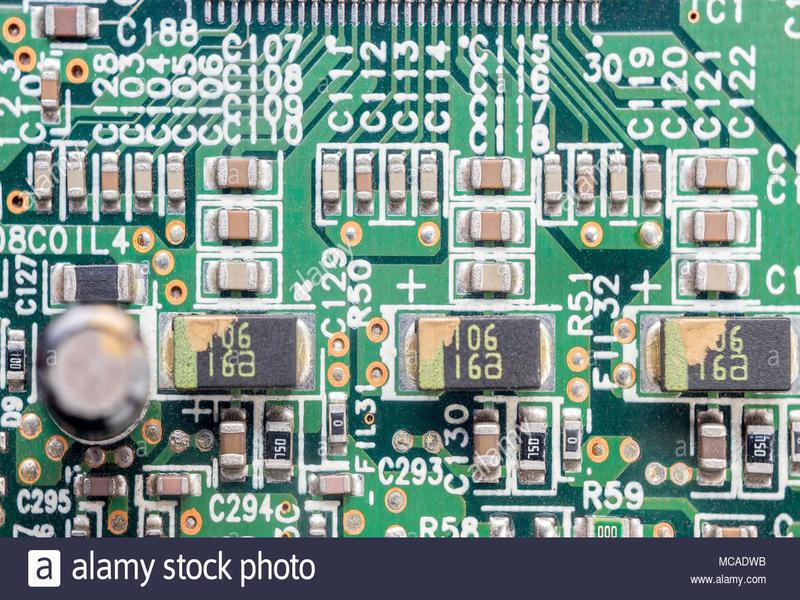SMD capacitor: (680, 153, 758, 195), (208, 156, 284, 196), (680, 205, 757, 244), (679, 257, 751, 298), (457, 208, 529, 246), (205, 259, 274, 297), (460, 155, 527, 194), (459, 261, 524, 298), (206, 210, 271, 240), (215, 417, 244, 477), (44, 3, 93, 37), (539, 154, 569, 206), (384, 153, 411, 209), (319, 153, 344, 212), (29, 150, 55, 206), (65, 152, 90, 209), (698, 421, 726, 471), (311, 468, 360, 496), (608, 155, 630, 216), (644, 152, 665, 213), (132, 155, 156, 207), (98, 155, 121, 209), (164, 154, 187, 206), (146, 474, 202, 495), (353, 153, 374, 208), (418, 154, 439, 208), (577, 153, 594, 209), (82, 477, 119, 497)
SMD resistor: (745, 424, 775, 484), (266, 413, 293, 473), (521, 418, 547, 477)
